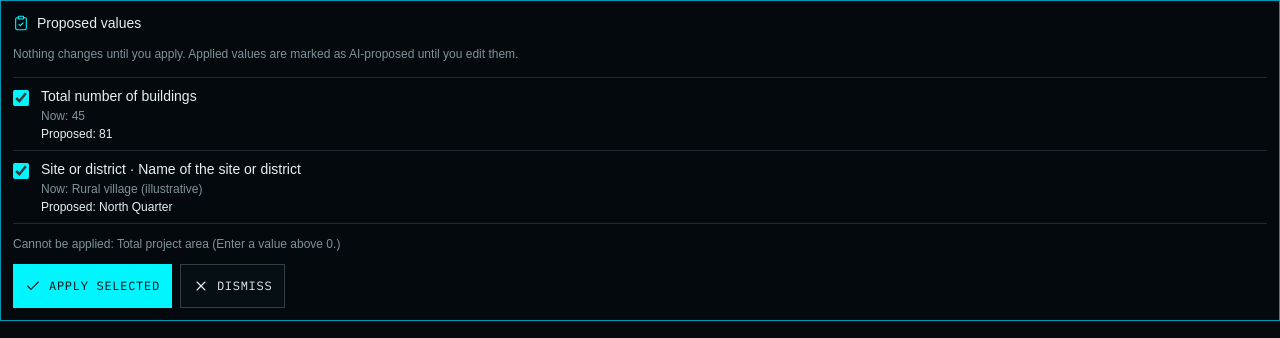
ReviewCard › shows each value now and proposed, lists what cannot apply, and applies only the checked entries
This screenshot has width=1280, height=338.
Expected: the checkbox labelled "Total number of buildings Now: 45 Proposed: 81" is checked, [13,90,29,106]
Expected: the text "81" is shown, [99,126,112,140]
What coordinates should you click on to do the following:
click the 2nd checkbox
I would click on:
 (21, 170)
Its box is [13,162,29,178].
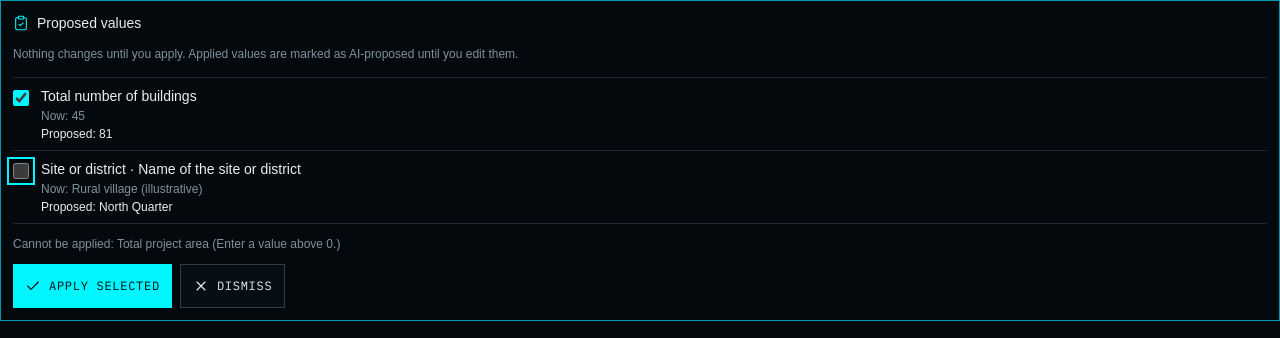
What coordinates should you click on to do the following:
click the button "Apply selected"
I would click on:
 (92, 286)
Its box is [13,264,172,308].
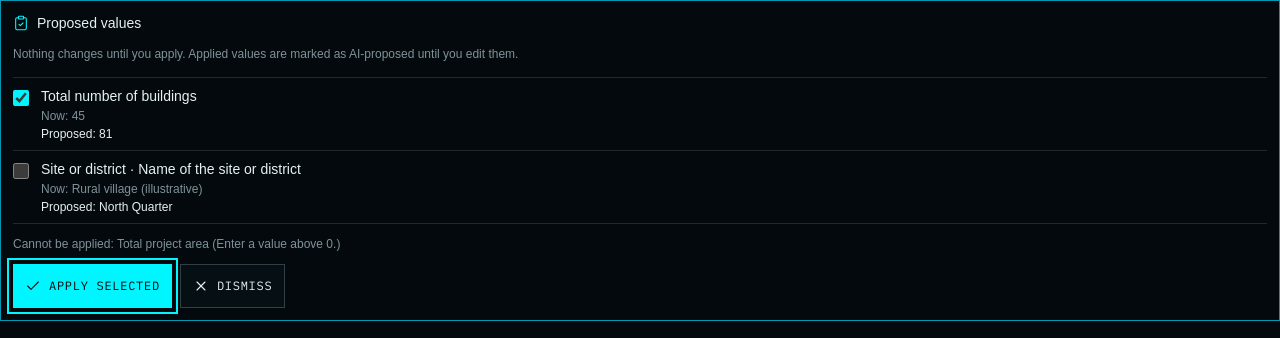
What coordinates should you click on to do the following:
click the checkbox labelled "Total number of buildings Now: 45 Proposed: 81"
I would click on:
 (21, 98)
Its box is [13,90,29,106].
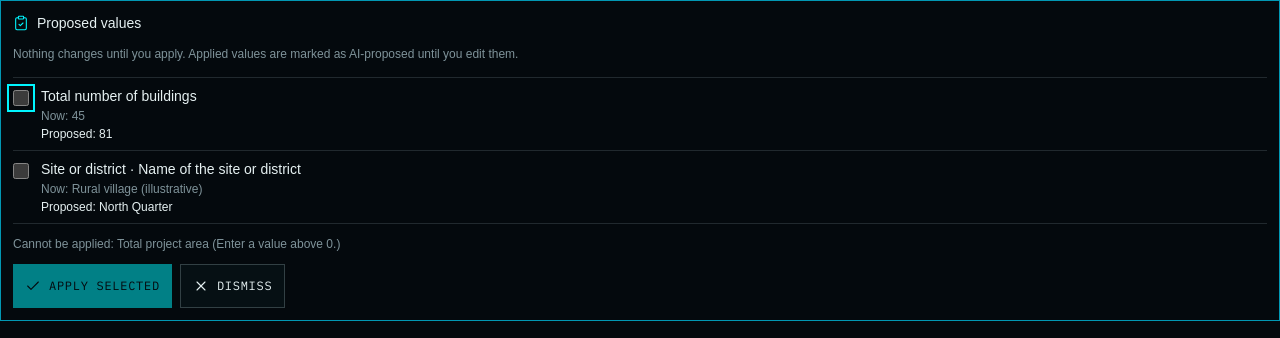
Expected: the button "Apply selected" is disabled, [13,264,172,308]
